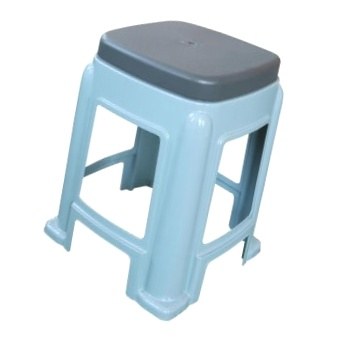plastic: (83, 34, 290, 283)
